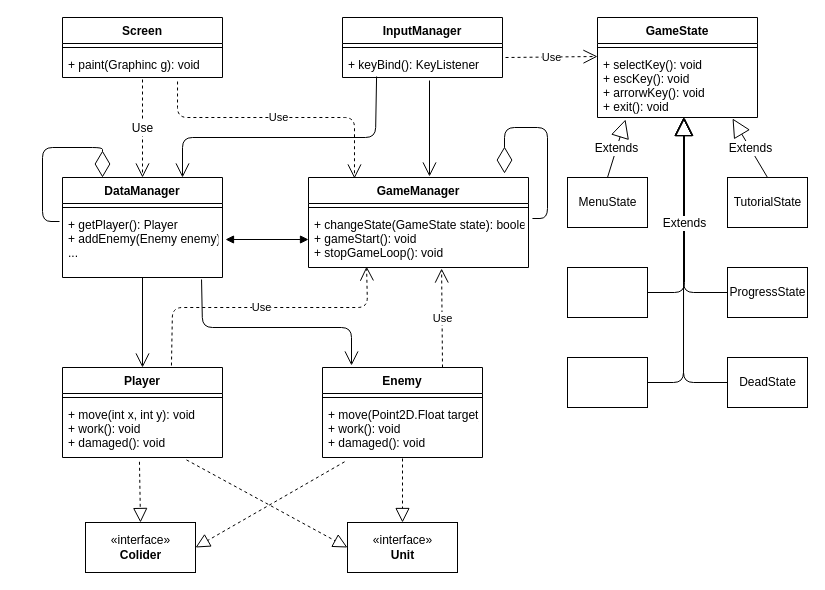
Image size: 825x590. Some labels were removed from this diagram. The shapes that lost their labels are listed below. From the top down, each one's centre as x and y in pixels, then its label:
the point at 607,292: StoryState
the point at 607,382: PauseState
